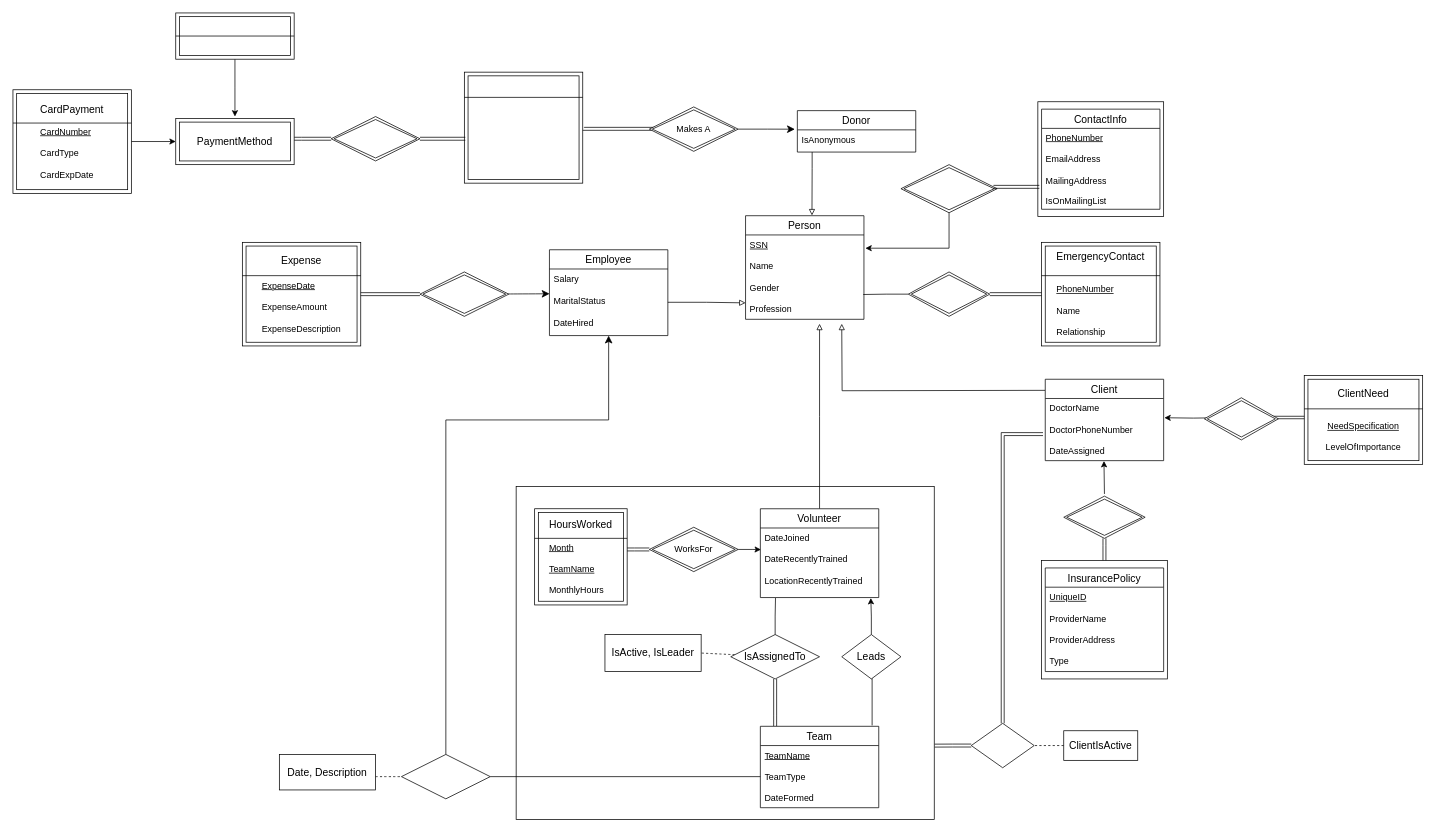
This 1436x833 diagram has some shape labels left out. The centre of each missing label's shape, as x and y in pixels:
"Cares For" goes at point (1002, 745).
"Charges An" goes at point (464, 293).
"CheckPayment CheckNumber" goes at point (234, 35).
"Donation DonationDate DonationType CampaignName DonationAmount" goes at point (523, 127).
"Has Contact" goes at point (949, 293).
"Has Information" goes at point (948, 188).
"Has Need" goes at point (1241, 418).
"IsInsuredBy" goes at point (1104, 516).
"Re quiresA" goes at point (375, 138).
"ReportsTo" goes at point (445, 776).
